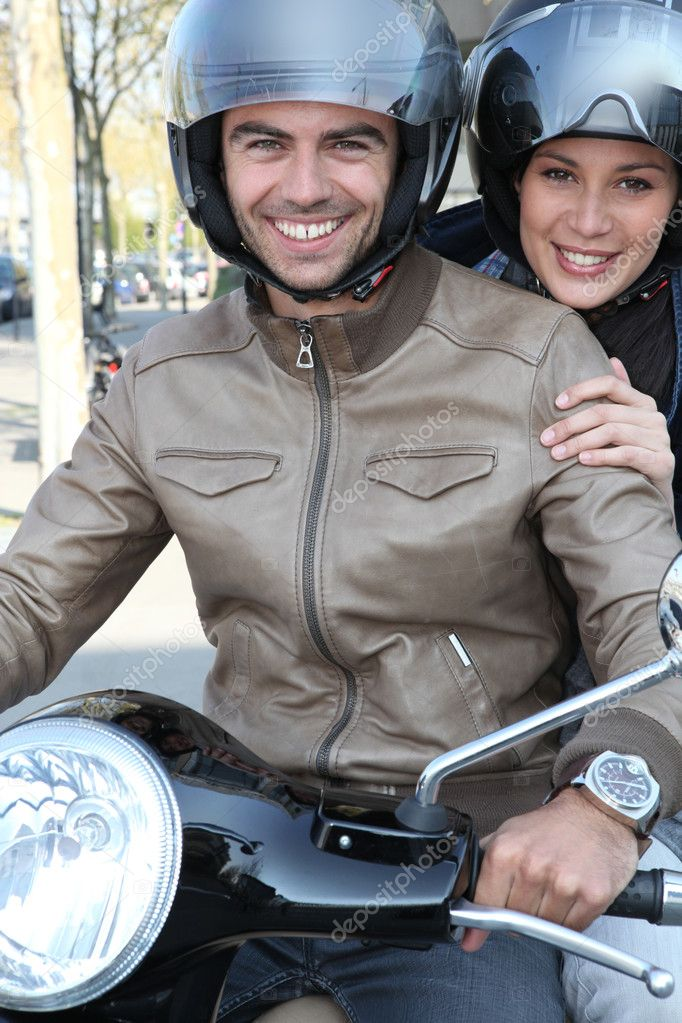helmet: (146, 7, 449, 221), (469, 15, 682, 151)
